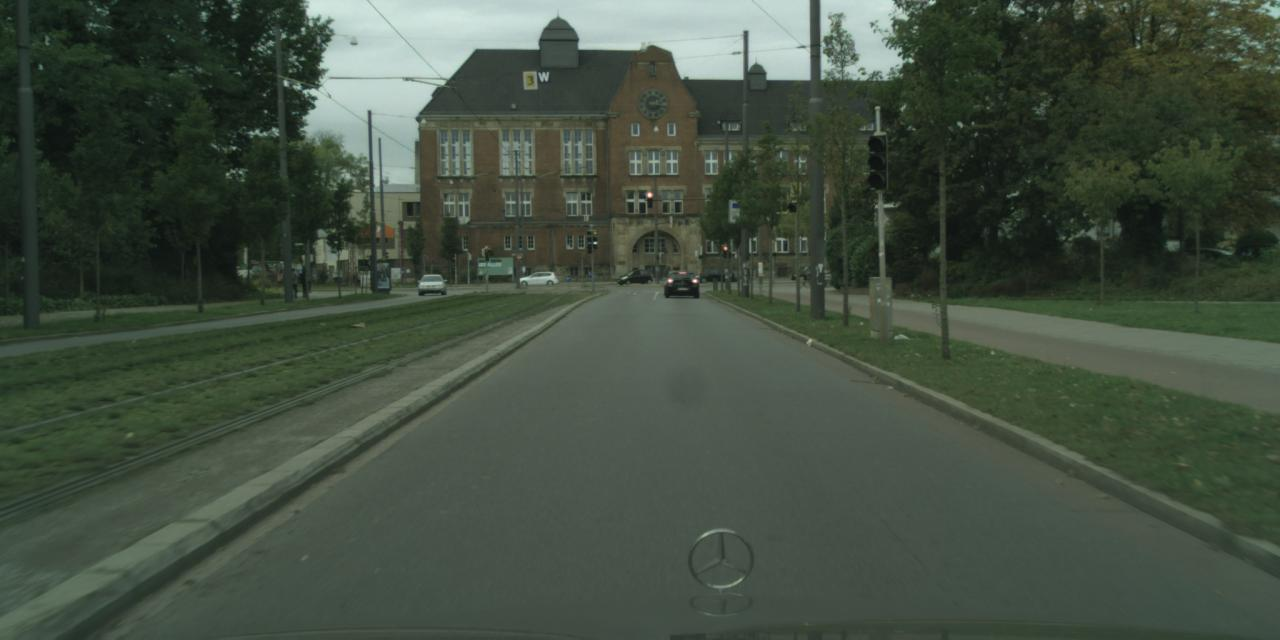ped: (298, 267, 310, 295), (287, 268, 298, 298), (800, 264, 808, 284)
